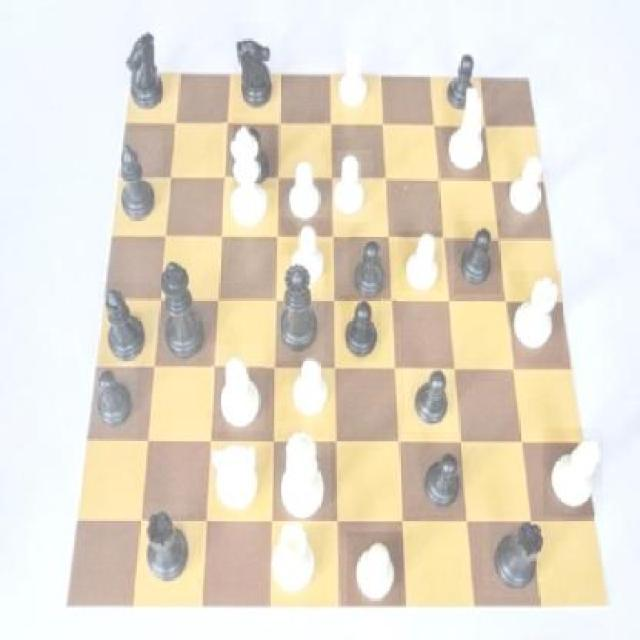bishop: (112, 132, 162, 222), (99, 281, 152, 364)
black-bishop: (158, 262, 208, 362)
black-king: (121, 28, 168, 114), (234, 23, 276, 114)
black-knight: (90, 364, 138, 440), (454, 220, 500, 294), (417, 445, 467, 512), (349, 238, 397, 304), (234, 118, 277, 188), (404, 368, 450, 432), (338, 296, 379, 362), (439, 51, 476, 120)
black-pawn: (274, 256, 324, 362)
black-queen: (140, 504, 198, 598), (483, 516, 544, 596)
black-rook: (543, 429, 603, 517), (210, 346, 264, 432)
white-bishop: (223, 123, 271, 237)
white-king: (442, 88, 498, 178), (212, 432, 265, 517)
white-knight: (348, 532, 404, 606), (502, 148, 546, 223), (282, 219, 331, 286), (284, 153, 326, 230), (334, 41, 376, 114), (288, 357, 332, 423), (334, 151, 374, 223), (398, 231, 442, 291)
white-pawn: (277, 420, 332, 524)
white-queen: (509, 271, 563, 363), (268, 511, 320, 597)
